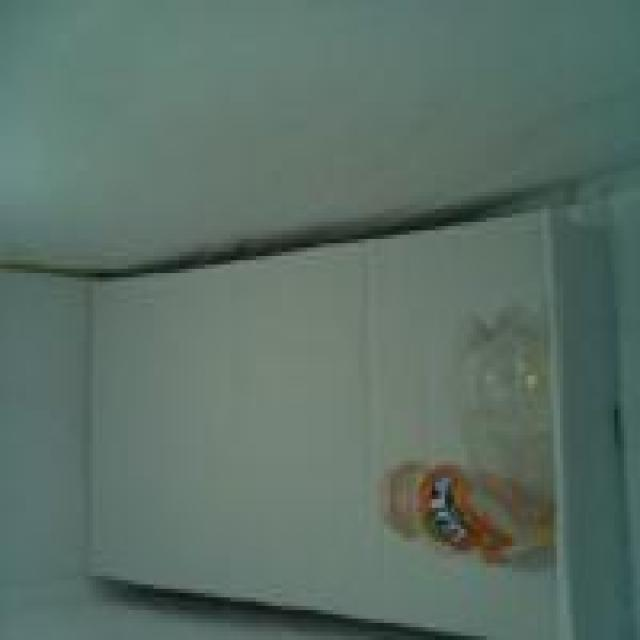bottle: (356, 298, 594, 595)
